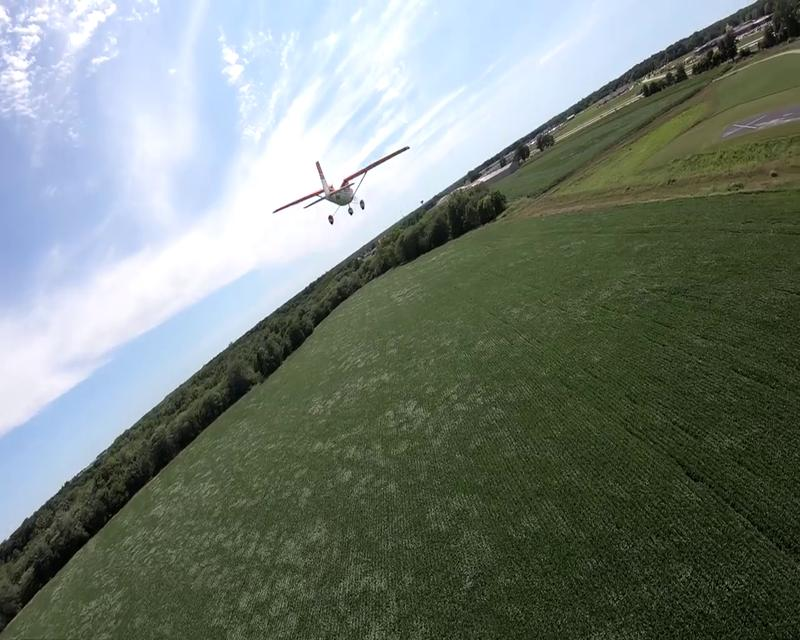UAV: (272, 146, 411, 226)
